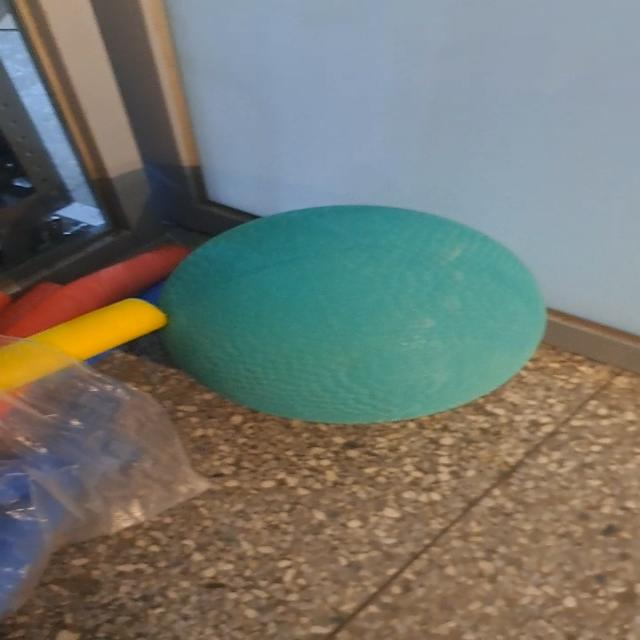ALGAE: (154, 199, 554, 433)
